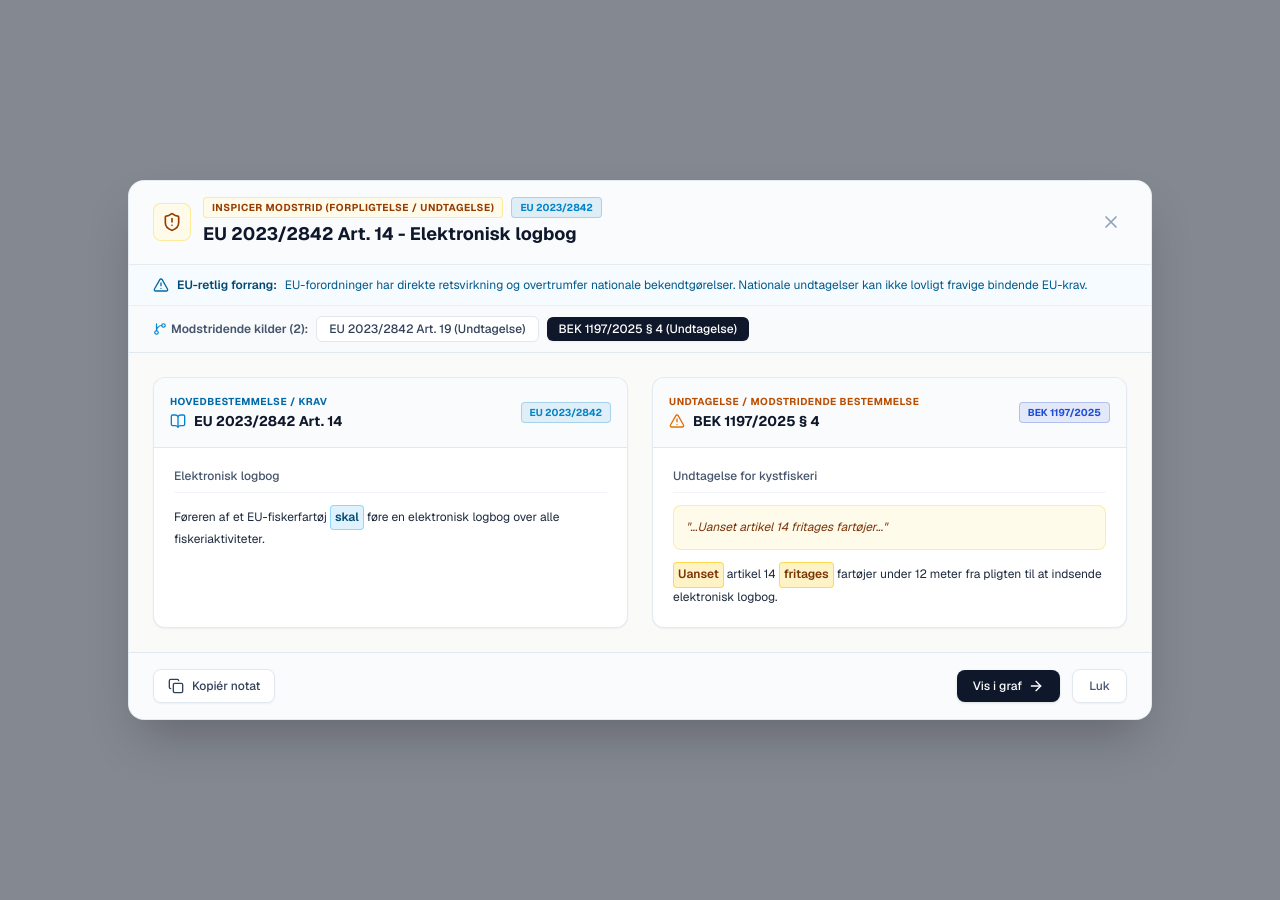
Scenario: ConflictInspectorModal initial citation › re-gates the callout per citation when the user switches source
This screenshot has width=1280, height=900.
Click the button "EU 2023/2842 Art. 19 (Undtagelse)": (427,329) [316,316,538,342]
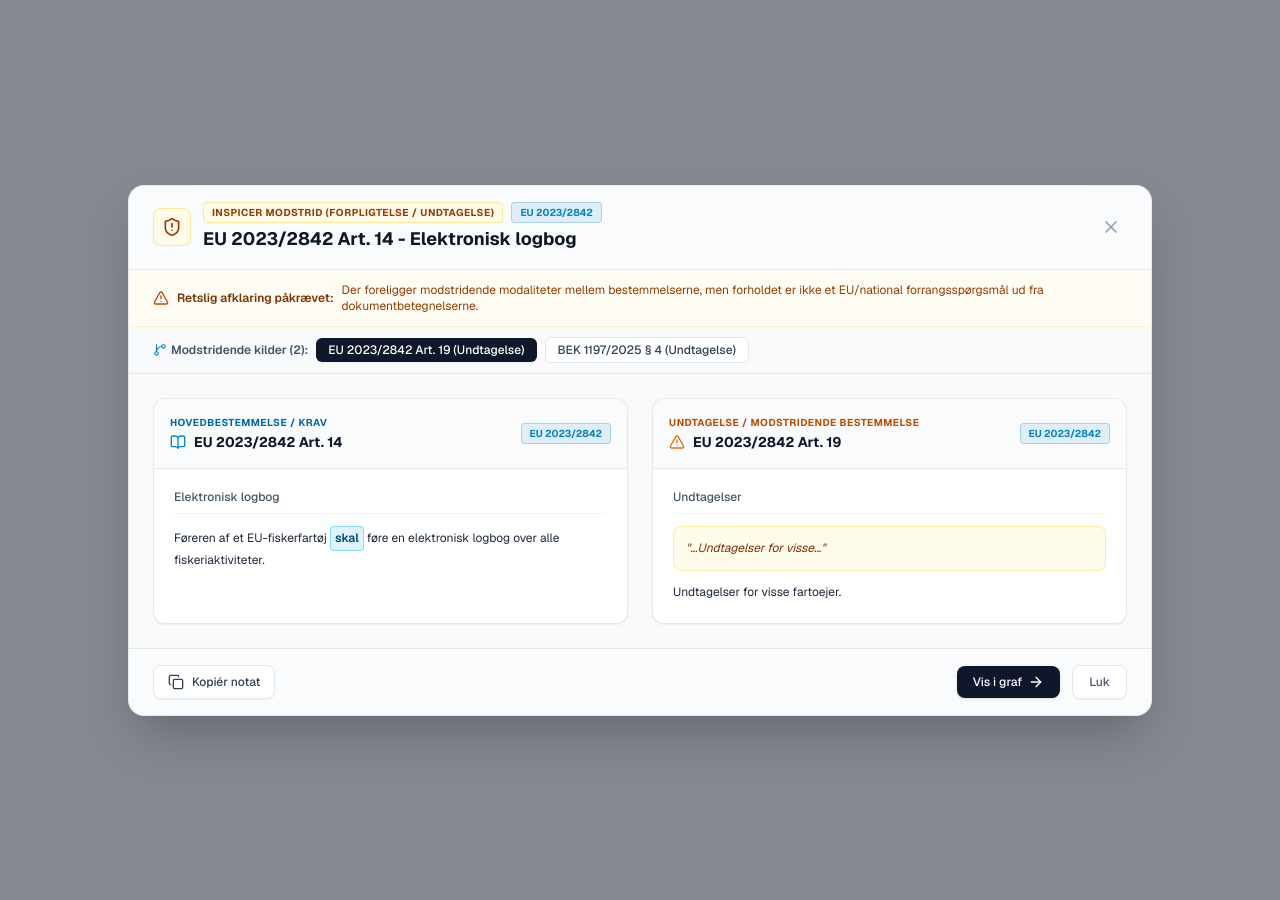
Expected: the text "Retslig afklaring påkrævet:" is shown, [177,290,334,306]
Expected: the text "EU-retlig forrang:" is gone
